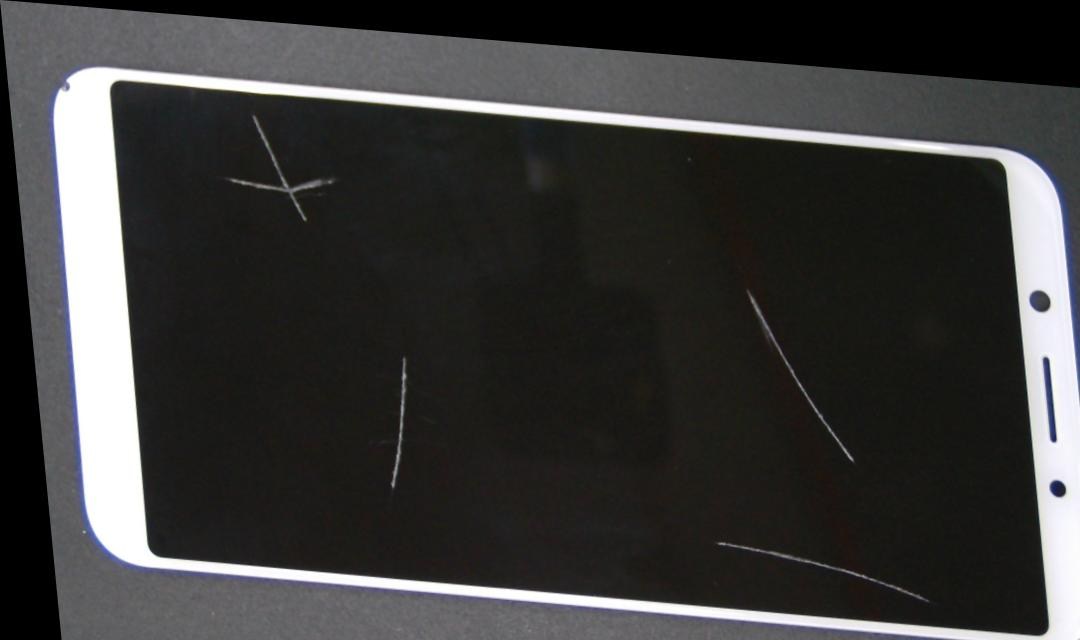Scratches: (682, 277, 906, 511), (661, 526, 982, 622), (329, 353, 476, 501), (220, 80, 337, 239)
